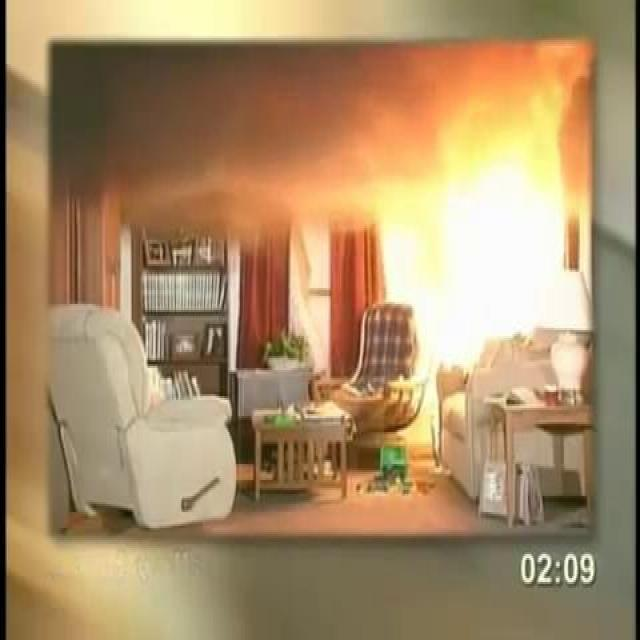Fire: (422, 114, 588, 352)
